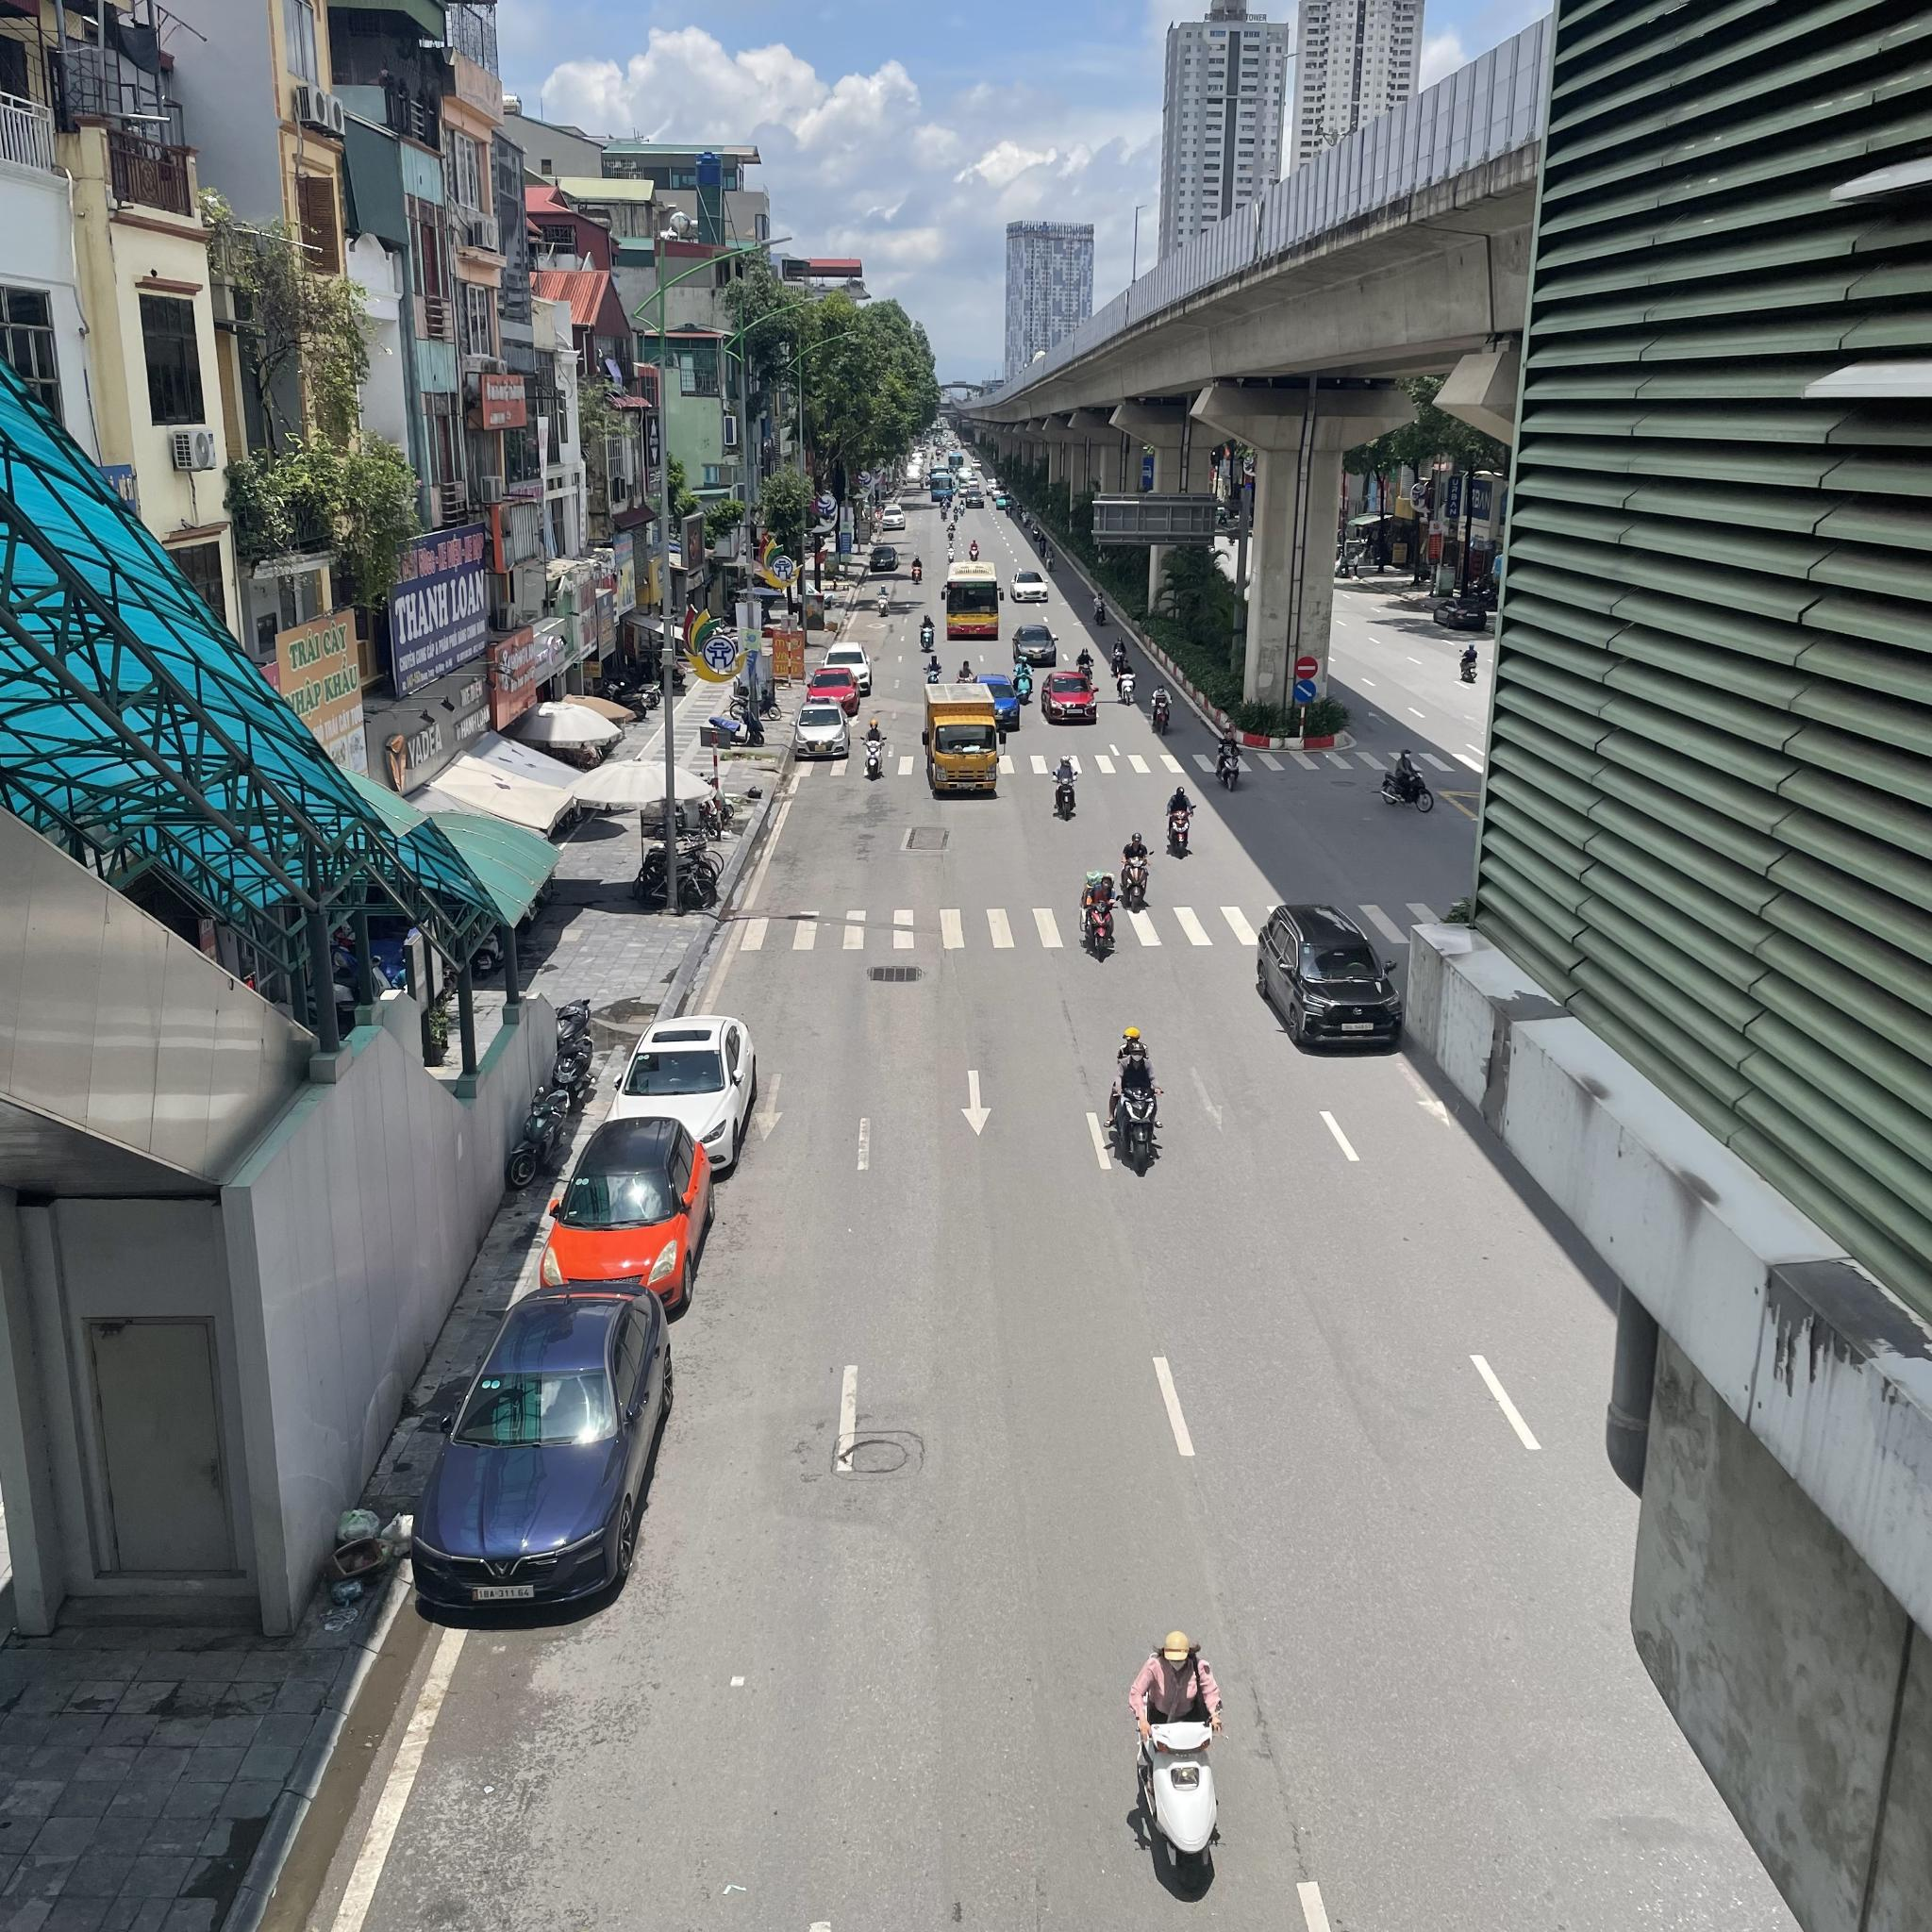car: (410, 1281, 670, 1614), (539, 1116, 714, 1318), (602, 1015, 758, 1169), (1257, 904, 1404, 1052), (941, 560, 1005, 637), (792, 698, 849, 760), (1041, 670, 1097, 723), (822, 641, 874, 692), (807, 668, 856, 715), (1012, 625, 1058, 665), (1010, 572, 1049, 604), (869, 545, 899, 574)
motobike: (1130, 1630, 1224, 1879), (1105, 1026, 1163, 1168), (1380, 748, 1436, 813), (1079, 871, 1117, 959), (1120, 831, 1154, 909), (1166, 786, 1194, 857), (1215, 728, 1244, 791), (1052, 756, 1078, 818), (860, 721, 888, 778), (1150, 684, 1173, 735), (1012, 656, 1035, 705), (1116, 658, 1135, 704), (1075, 648, 1095, 686), (923, 654, 941, 688), (1110, 637, 1127, 673), (920, 614, 936, 651), (1092, 592, 1108, 625), (875, 583, 890, 617), (910, 556, 924, 584), (1044, 546, 1057, 573), (970, 539, 980, 561), (945, 540, 956, 562)
